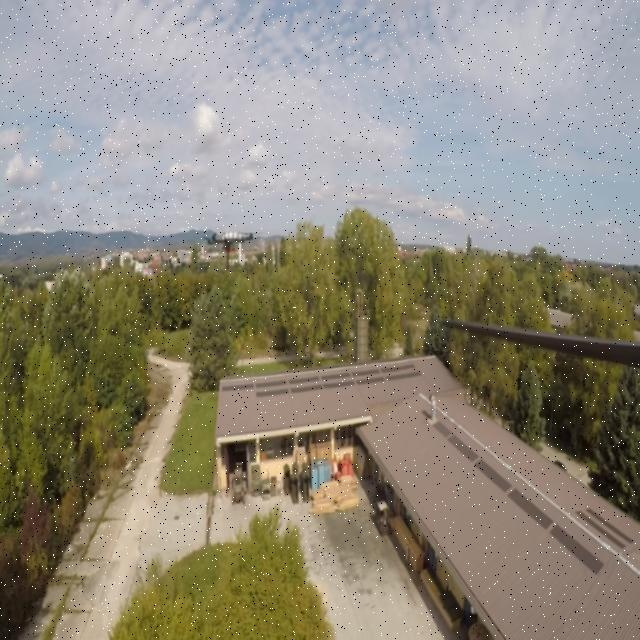UAV: (202, 226, 264, 274)
